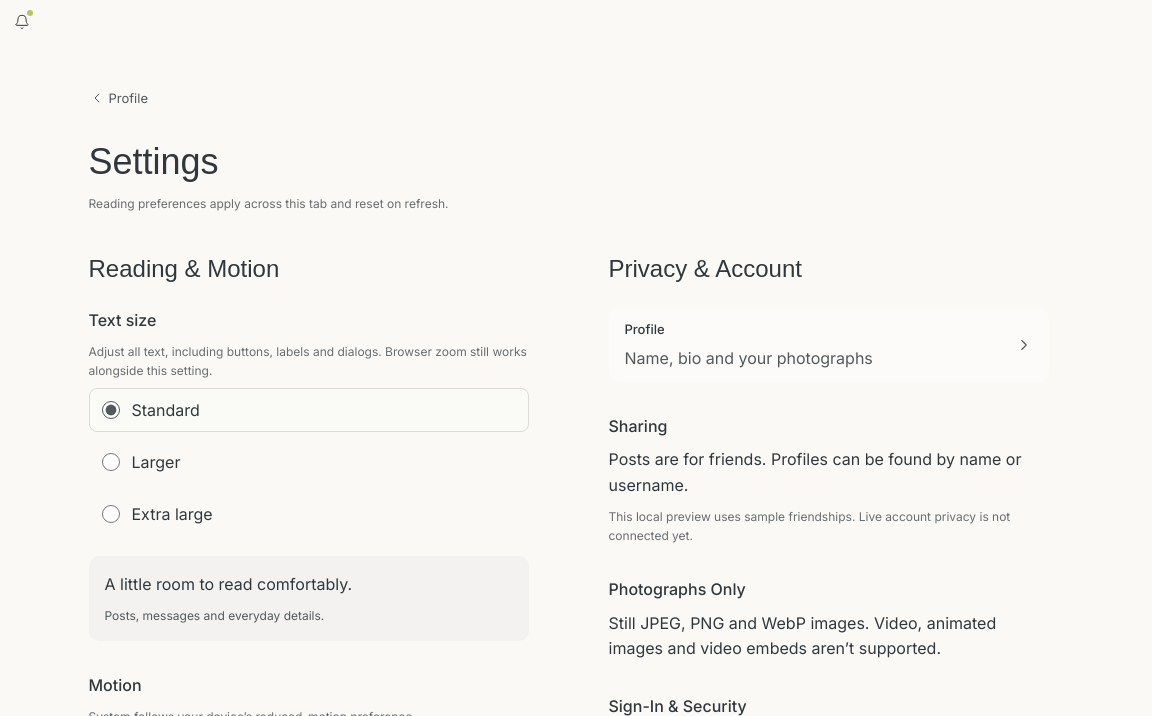
Scenario: returns to settings without losing preferences when dismissed with escape
Step 1. Click the radio button labelled "Larger" → (110, 462), box x1=102 y1=453 x2=120 y2=471
(page scrolled)
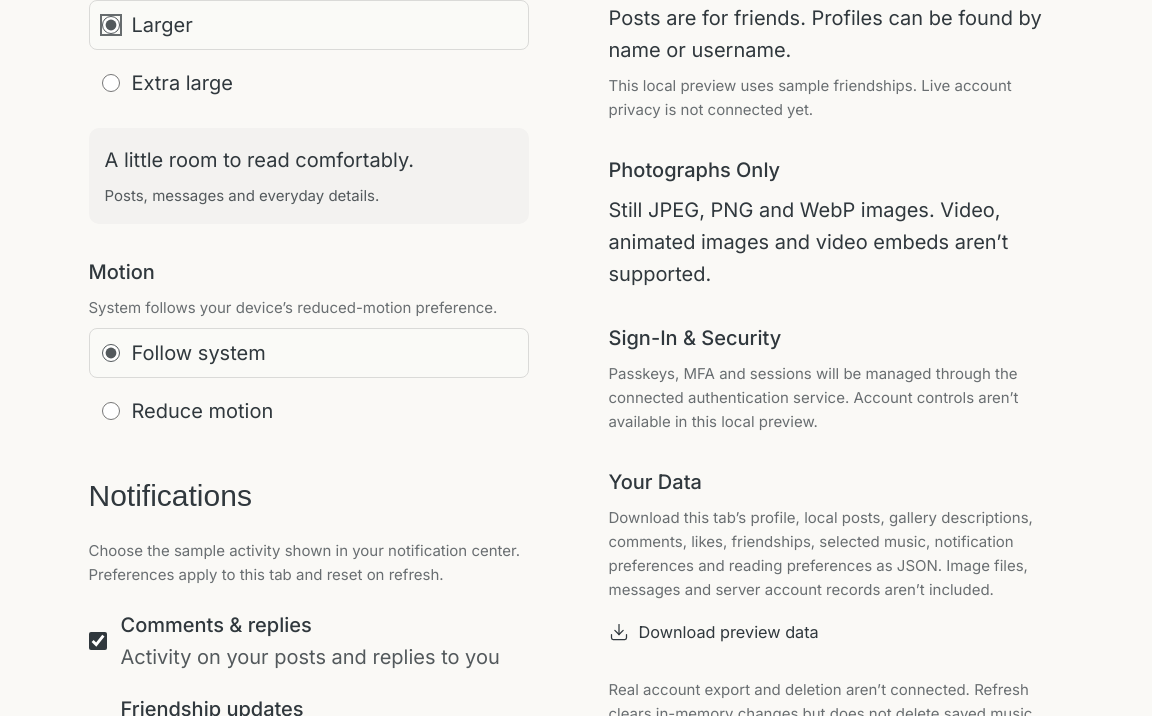
Step 2. Click the radio button labelled "Reduce motion" → (110, 410), box x1=102 y1=402 x2=120 y2=420
(page scrolled)
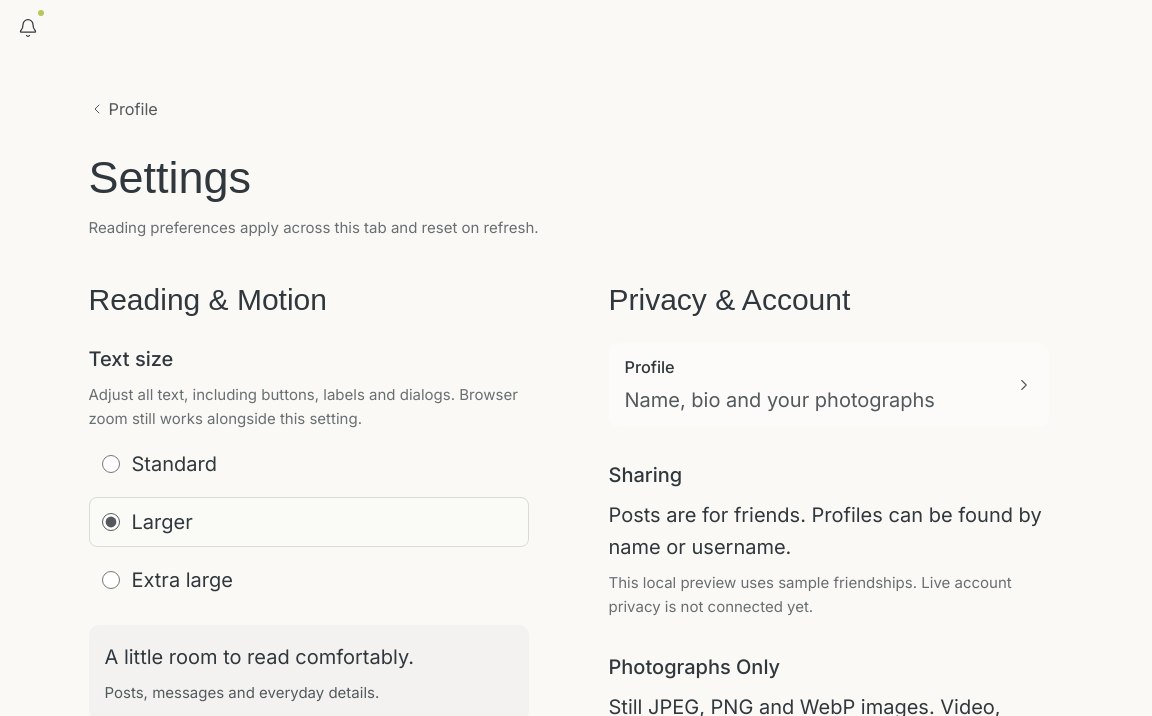
Step 3. Click the button named "Notifications, 2 unread" → (28, 28), box x1=0 y1=0 x2=55 y2=55
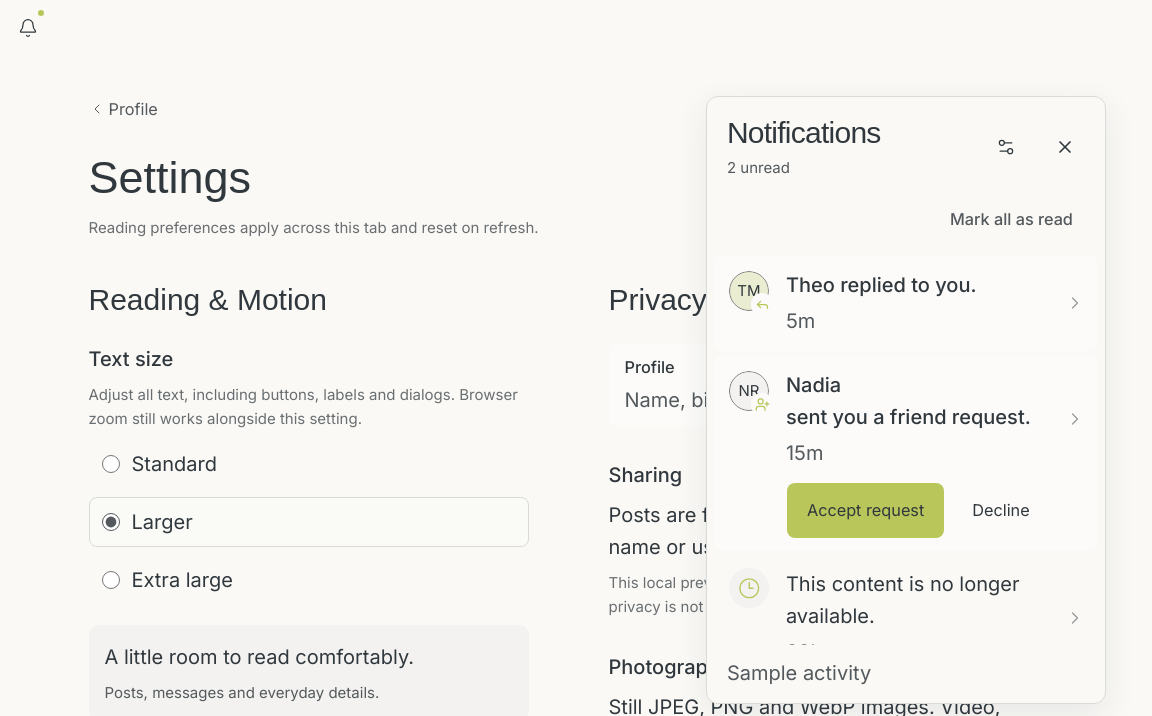
Step 4. Press Escape
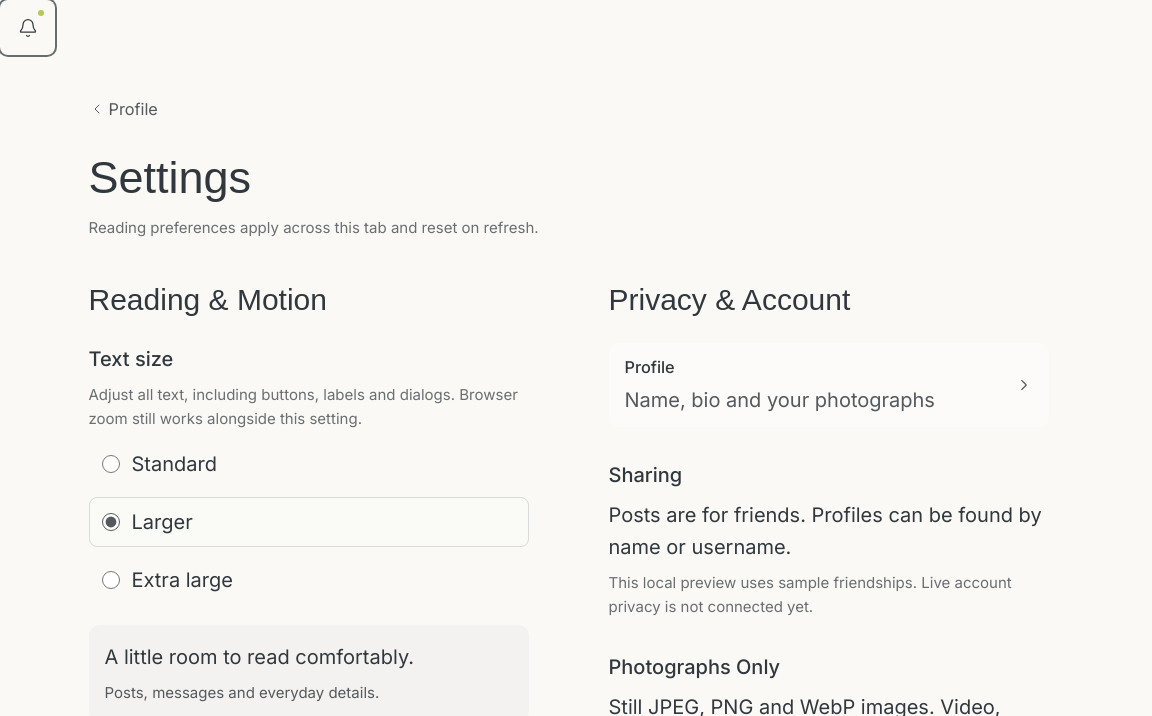
Expected: the radio button labelled "Larger" is checked, x1=102 y1=512 x2=120 y2=530
Expected: the dialog is gone
